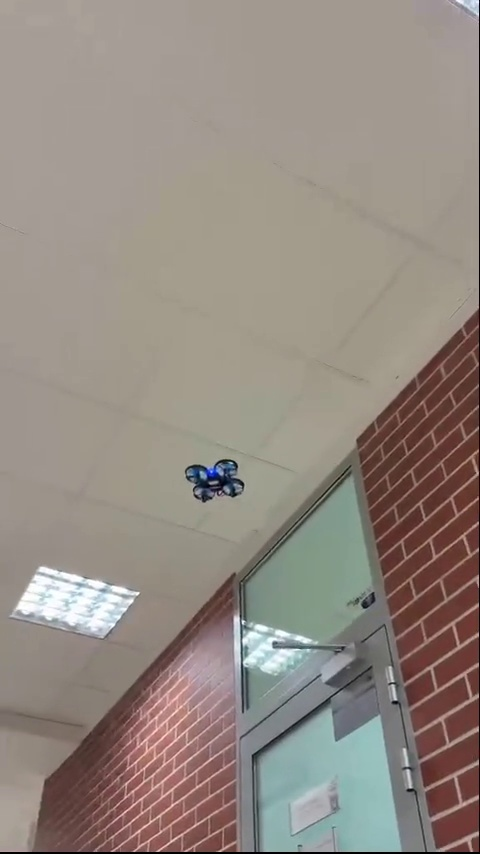drone: (185, 460, 243, 505)
